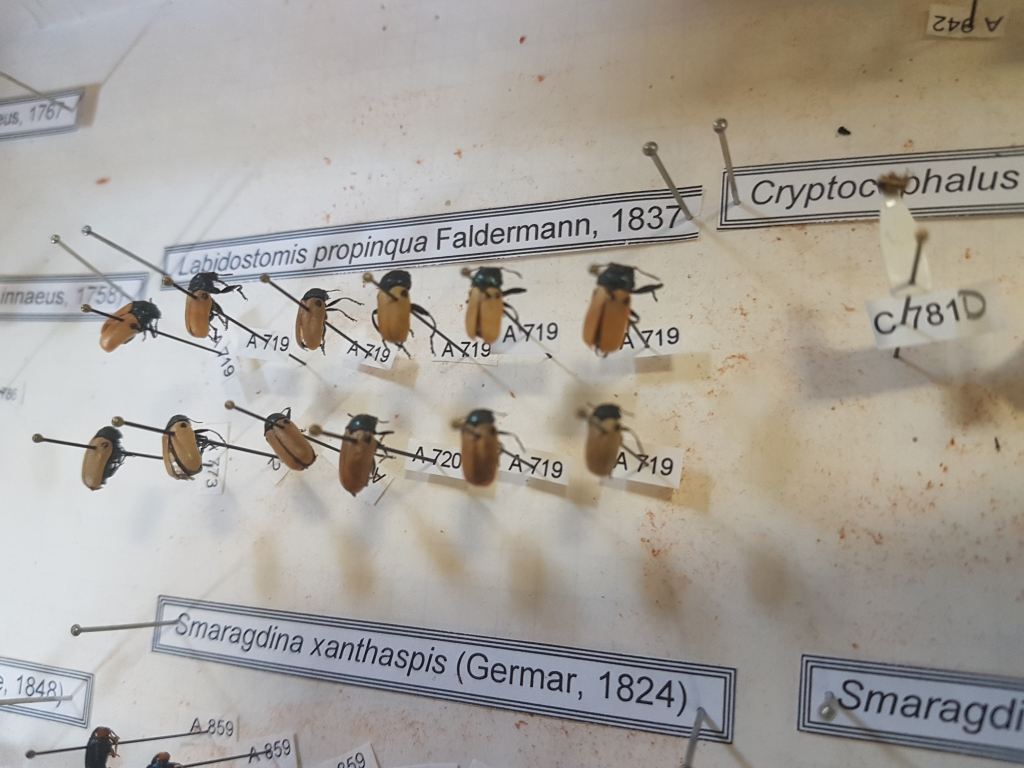Labidostomis_propinqua: (576, 254, 669, 362), (452, 408, 531, 491), (365, 265, 434, 356), (328, 406, 393, 501), (459, 262, 528, 349), (181, 268, 250, 351), (288, 282, 362, 359), (580, 397, 650, 478), (94, 294, 165, 354), (257, 408, 320, 472), (75, 422, 125, 498), (158, 412, 210, 484)
